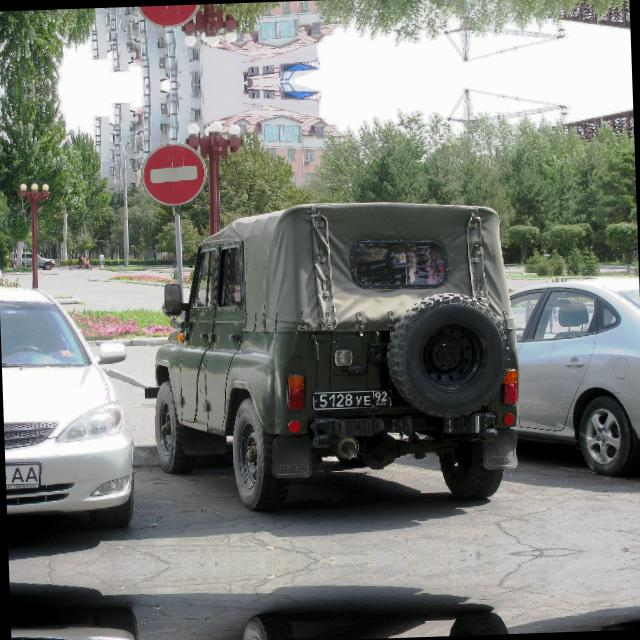citizen: (4, 456, 42, 493)
military: (308, 380, 396, 416)
